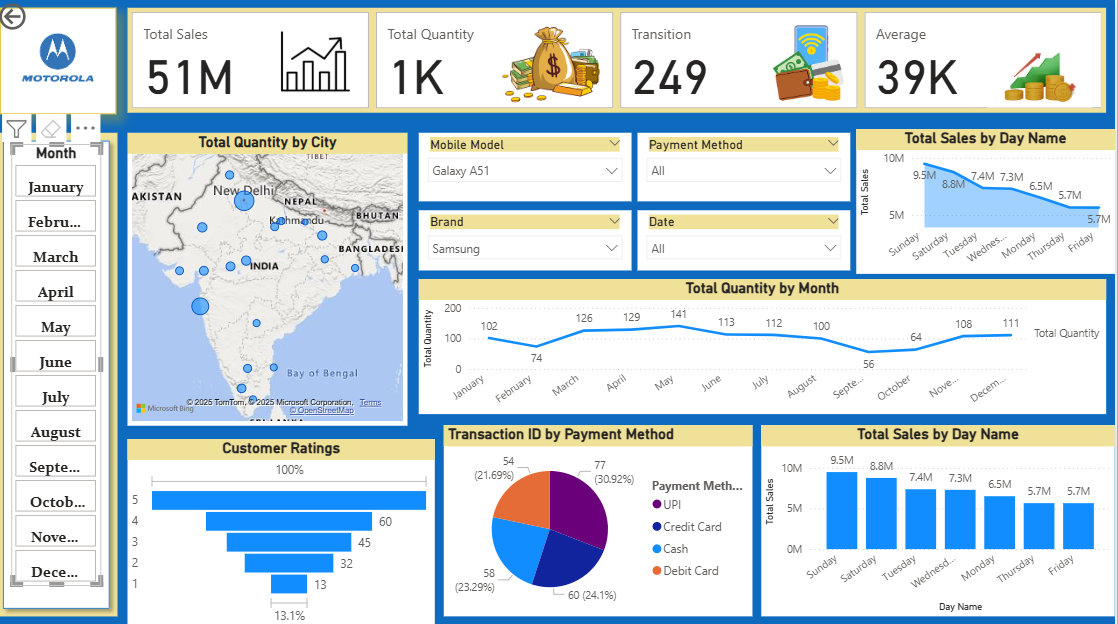

The dashboard page shown, as its layout file describes it:
{"tool":"powerbi","page":{"name":"Page 1","canvas":[1280,720],"ordinal":0},"visuals":[{"type":"image","box":[5,10,132.5,121.2],"z":0},{"type":"shape","box":[0,152.3,140,553],"z":1000},{"type":"advancedSlicerVisual","fields":{"Values":["Saledata.Date .Variation.Date Hierarchy.Month"]},"box":[18.6,165.7,102.9,505.7],"z":2000},{"type":"actionButton","box":[0,0,100,40],"z":3000},{"type":"cardVisual","fields":{"Data":["Saledata.Total Sales","Saledata.Total Quantity","Saledata.Transition","Saledata.Average"]},"box":[151.4,10,1118.6,120],"z":4000},{"type":"lineChart","fields":{"Category":["Saledata.Date .Variation.Date Hierarchy.Month","Saledata.Date .Variation.Date Hierarchy.Day"],"Y":["Saledata.Total Quantity"]},"box":[484.3,320,785.7,154.3],"z":5000},{"type":"pieChart","title":"Transaction ID by Payment Method","fields":{"Category":["Saledata.Payment Method"],"Y":["CountNonNull(Saledata.Transaction ID)"]},"box":[512.9,487.1,352.9,218.6],"z":6000},{"type":"funnel","title":"Customer Ratings","fields":{"Category":["Saledata.Customer Ratings"],"Y":["CountNonNull(Saledata.Customer Ratings)"]},"box":[151.4,502.9,351.4,217.1],"z":7000},{"type":"areaChart","fields":{"Y":["Saledata.Total Sales"],"Category":["Saledata.Day Name"]},"box":[984.3,148.6,295.7,165.7],"z":8000},{"type":"slicer","fields":{"Values":["Saledata.Mobile Model"]},"box":[484.3,152.9,242.9,78.6],"z":9000},{"type":"slicer","fields":{"Values":["Saledata.Date "]},"box":[734.3,241.4,242.9,68.6],"z":10000},{"type":"slicer","fields":{"Values":["Saledata.Brand"]},"box":[484.3,241.4,242.9,68.6],"z":11000},{"type":"slicer","fields":{"Values":["Saledata.Payment Method"]},"box":[734.3,152.9,242.9,78.6],"z":12000},{"type":"map","fields":{"Category":["Saledata.City"],"Size":["Saledata.Total Quantity"]},"box":[151.4,152.9,320,334.3],"z":13000},{"type":"clusteredColumnChart","fields":{"Category":["Saledata.Day Name"],"Y":["Saledata.Total Sales"]},"box":[875.7,487.1,404.3,218.6],"z":13001}]}

Visuals, with their boxes in screenshot pixels (x1, y1, x2, y2), scaled from the page's 1280x720 canvas onto the 1118x624 screenshot:
image: left=4, top=9, right=120, bottom=114
shape: left=0, top=132, right=122, bottom=611
advancedSlicerVisual - Saledata.Date .Variation.Date Hierarchy.Month: left=16, top=144, right=106, bottom=582
actionButton: left=0, top=0, right=87, bottom=35
cardVisual - Saledata.Total Sales x Saledata.Total Quantity: left=132, top=9, right=1109, bottom=113
lineChart - Saledata.Date .Variation.Date Hierarchy.Month x Saledata.Date .Variation.Date Hierarchy.Day: left=423, top=277, right=1109, bottom=411
"Transaction ID by Payment Method" pieChart: left=448, top=422, right=756, bottom=612
"Customer Ratings" funnel: left=132, top=436, right=439, bottom=623
areaChart - Saledata.Total Sales x Saledata.Day Name: left=860, top=129, right=1117, bottom=272
slicer - Saledata.Mobile Model: left=423, top=133, right=635, bottom=201
slicer - Saledata.Date : left=641, top=209, right=854, bottom=269
slicer - Saledata.Brand: left=423, top=209, right=635, bottom=269
slicer - Saledata.Payment Method: left=641, top=133, right=854, bottom=201
map - Saledata.City x Saledata.Total Quantity: left=132, top=133, right=412, bottom=422
clusteredColumnChart - Saledata.Day Name x Saledata.Total Sales: left=765, top=422, right=1117, bottom=612
